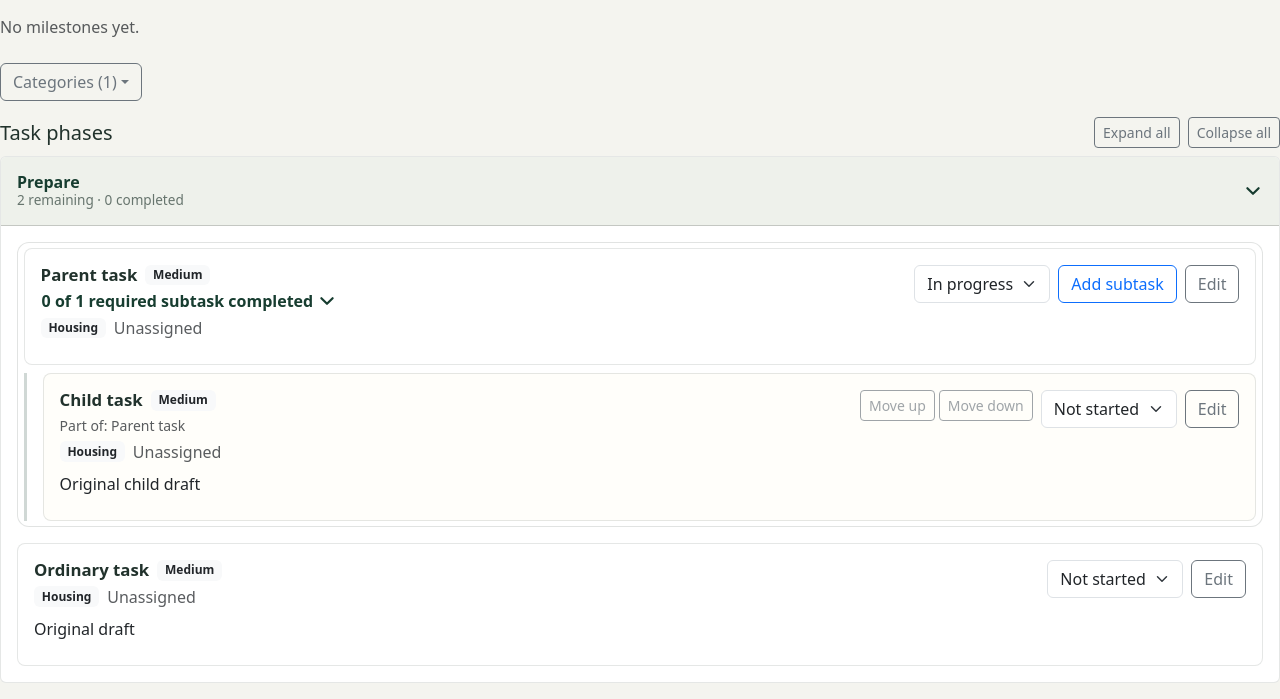
existing Task edit return › preserves a compatible filter and offers explicit established reveal when a save becomes hidden
(page scrolled)
Click the button "Edit" in the row of "Ordinary task" at (1219,579), box [1191,560,1246,598]
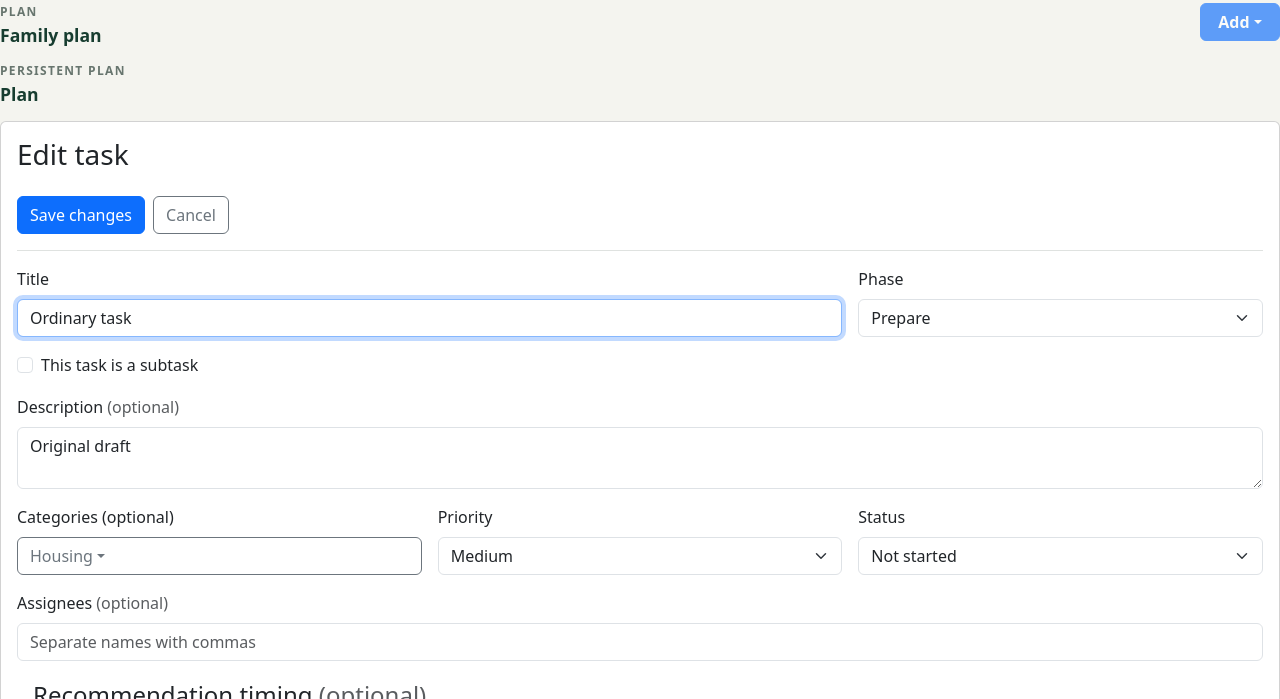
Click the button "Save changes" at (81,215), box [17,196,145,234]
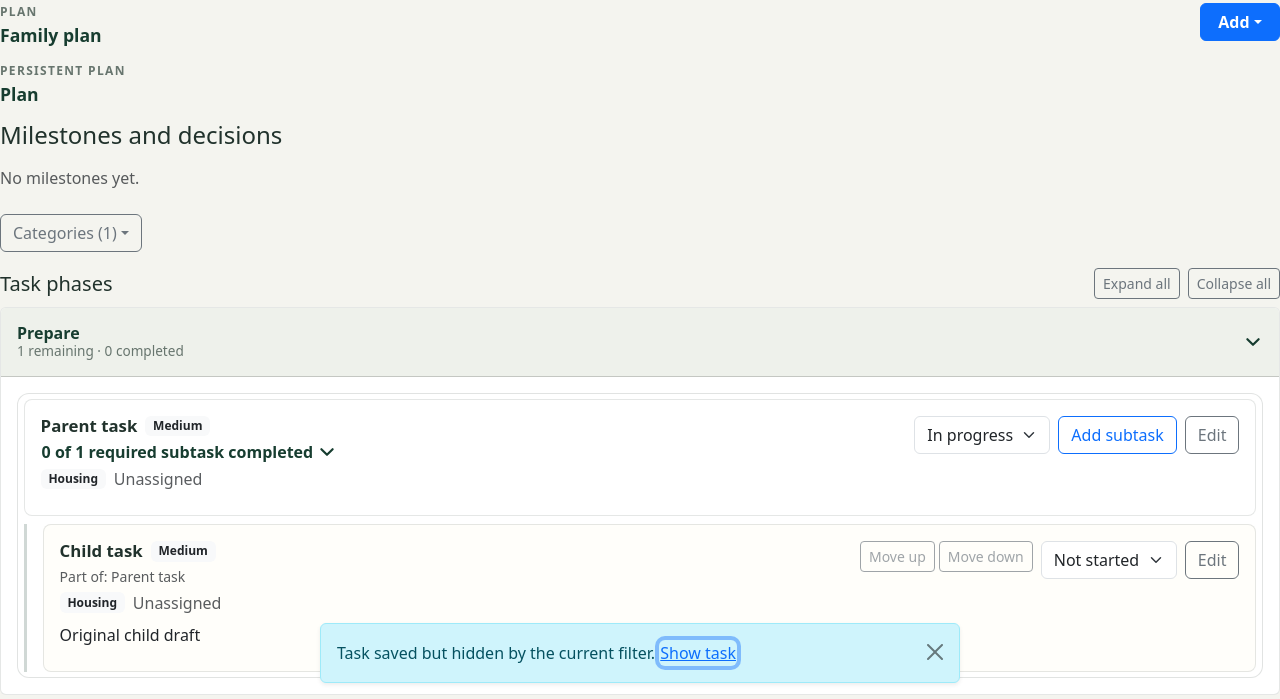
Expected: the heading "Ordinary task" is not shown
Result: the text "Task saved but hidden by the current filter." is shown at [337,642,655,664]
Result: the button with aria-label "Filter by categories" reads "Categories (1)" at [0,214,142,252]
Click the button "Show task" at (698,653), box [659,640,737,666]
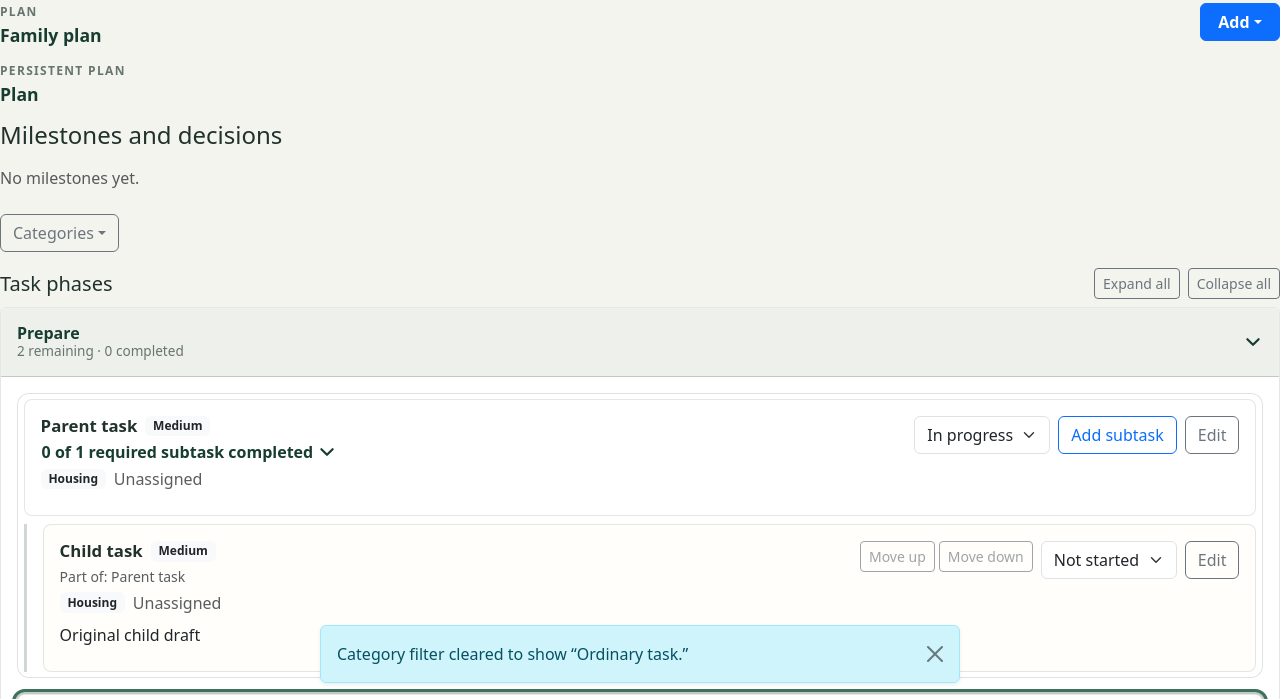
Result: the button with aria-label "Filter by categories" reads "Categories" at [0,214,119,252]
